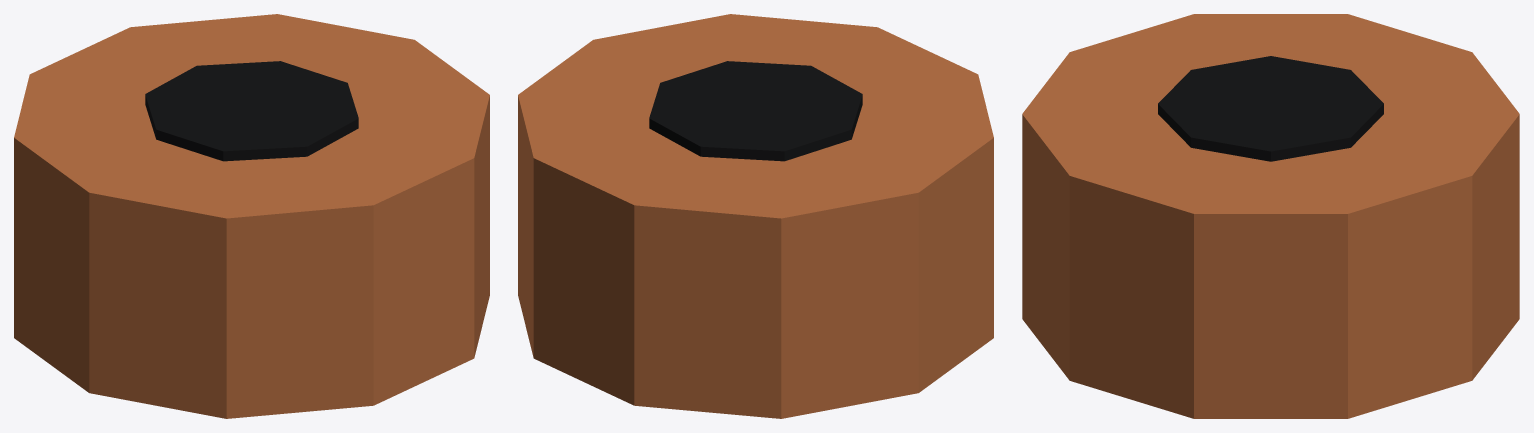
File: coil.fbx
3 renders of one model, left to right at view 1: azimuth 30°, elevation 25°; view 2: azimuth 150°, elevation 25°; view 3: azimuth 270°, elevation 25°, orthographic. The views are drawn at different scales.
Visible parts, largest first — view 1: coil; view 2: coil; view 3: coil.
Boxes of the visible parts, <box> form: coil: <box>14,14,489,418</box>; coil: <box>518,14,993,418</box>; coil: <box>1022,14,1519,418</box>.
Size of the model in its own units: 0.6277 by 0.33 by 0.66.
